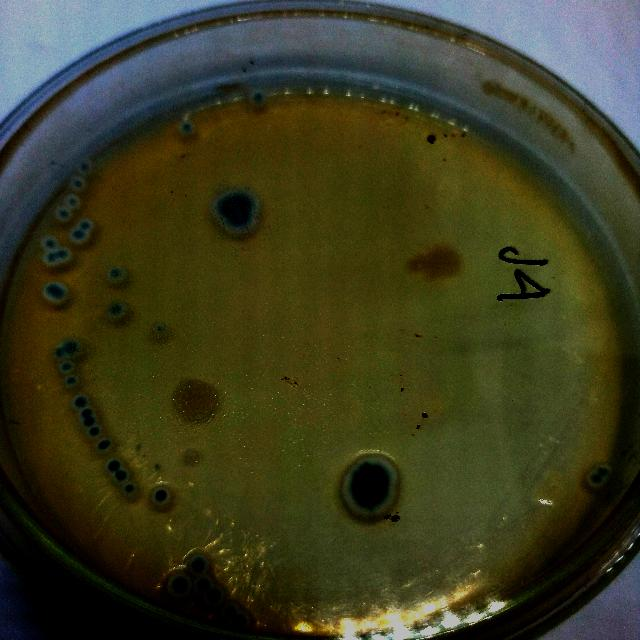colony: (341, 452, 404, 526), (168, 374, 226, 428), (210, 188, 264, 234), (422, 240, 462, 280), (40, 278, 72, 310), (166, 573, 192, 599), (202, 584, 226, 608), (186, 554, 210, 576), (58, 338, 84, 358), (192, 574, 214, 596), (228, 610, 250, 632), (218, 602, 240, 622), (105, 301, 126, 321), (68, 227, 90, 245), (105, 266, 126, 284), (151, 487, 171, 505), (54, 246, 74, 264), (584, 471, 604, 489), (64, 194, 82, 212), (595, 462, 613, 480), (77, 217, 95, 235), (110, 468, 130, 484), (40, 235, 60, 251), (248, 91, 268, 107), (106, 458, 122, 476), (70, 176, 86, 194), (76, 157, 92, 175), (178, 119, 194, 137), (56, 205, 72, 222), (122, 481, 138, 497), (96, 436, 112, 452), (44, 250, 58, 268), (80, 404, 96, 418), (72, 394, 88, 408), (87, 424, 101, 438), (82, 415, 96, 429), (64, 373, 78, 387), (153, 322, 167, 336), (60, 360, 76, 372), (53, 344, 65, 358)
